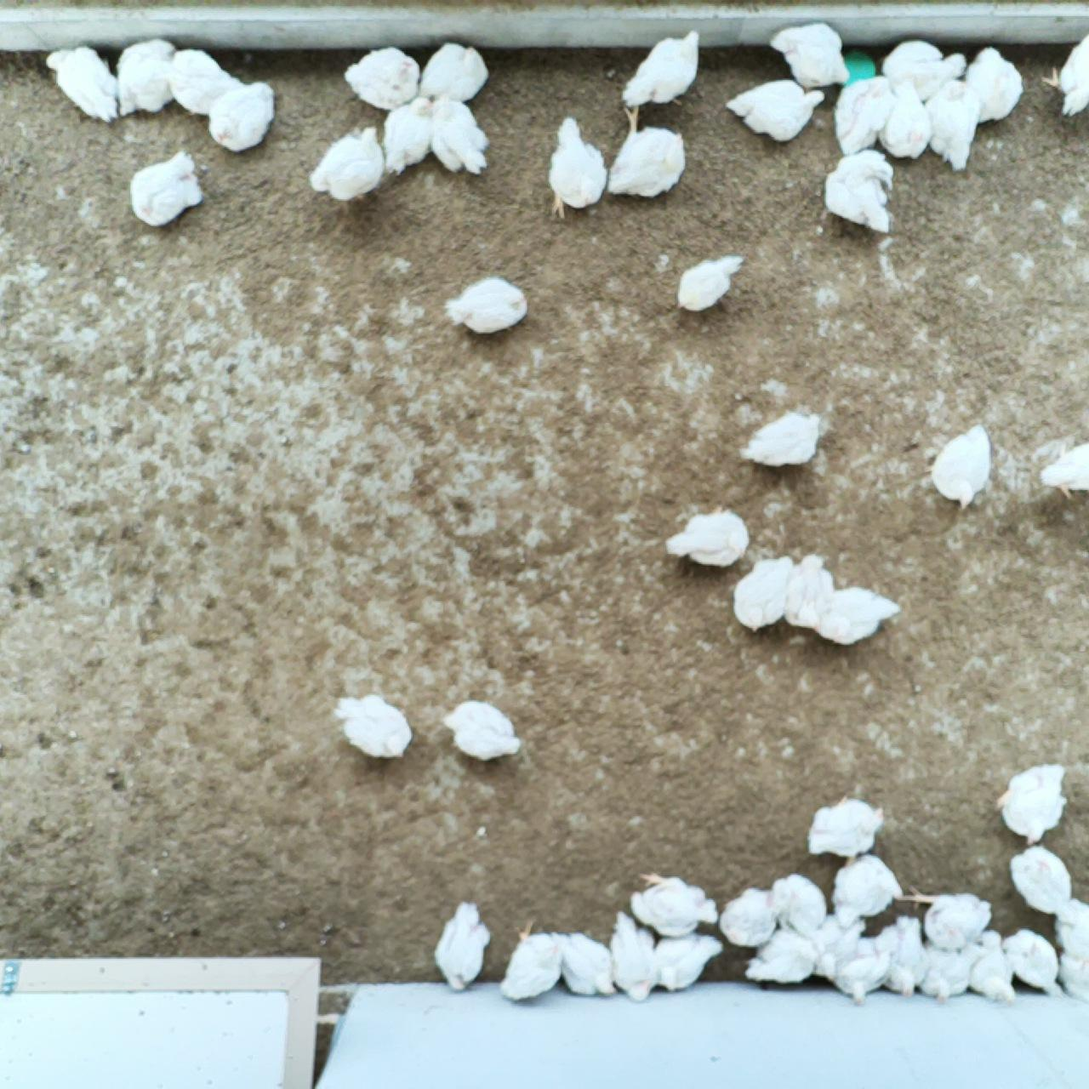chicken: (607, 103, 688, 201), (722, 77, 827, 145), (546, 113, 610, 222), (893, 883, 994, 952), (623, 867, 721, 938), (822, 145, 897, 237), (992, 760, 1071, 847), (621, 29, 704, 110), (496, 914, 567, 1008), (308, 123, 387, 206), (768, 20, 852, 95), (43, 43, 119, 125), (127, 149, 203, 231), (664, 503, 753, 572), (441, 274, 530, 342), (878, 37, 968, 104), (431, 897, 493, 994), (830, 851, 905, 931), (921, 78, 984, 173), (810, 585, 904, 648), (929, 423, 997, 508), (729, 554, 800, 635), (831, 923, 897, 1010), (806, 791, 888, 861), (438, 696, 523, 763), (429, 89, 491, 179), (833, 73, 897, 160), (342, 44, 422, 113), (333, 693, 414, 761), (169, 44, 243, 117), (206, 79, 279, 153), (915, 936, 993, 1004), (736, 409, 824, 469), (1006, 840, 1074, 917), (117, 36, 179, 119), (548, 928, 620, 999), (962, 44, 1025, 124), (607, 908, 659, 1004), (877, 76, 935, 162), (417, 40, 491, 106), (781, 551, 837, 633), (1037, 30, 1089, 118), (1001, 927, 1064, 999), (741, 925, 816, 985), (653, 929, 724, 992), (675, 251, 747, 313), (718, 886, 786, 949), (969, 928, 1020, 1009), (769, 872, 829, 940), (810, 912, 866, 983), (882, 913, 927, 998), (1037, 437, 1089, 501), (1049, 896, 1089, 958), (1053, 950, 1089, 1001)
